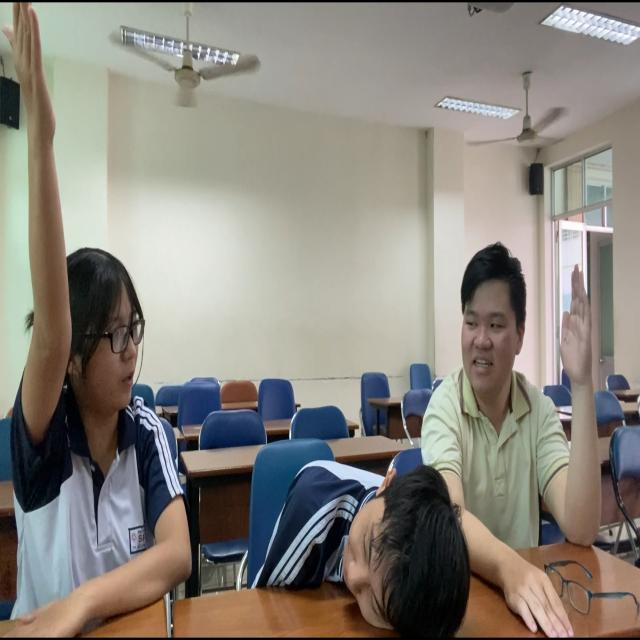raise_hand: (1, 1, 151, 640), (447, 236, 609, 589)
sleep: (229, 450, 479, 640)
